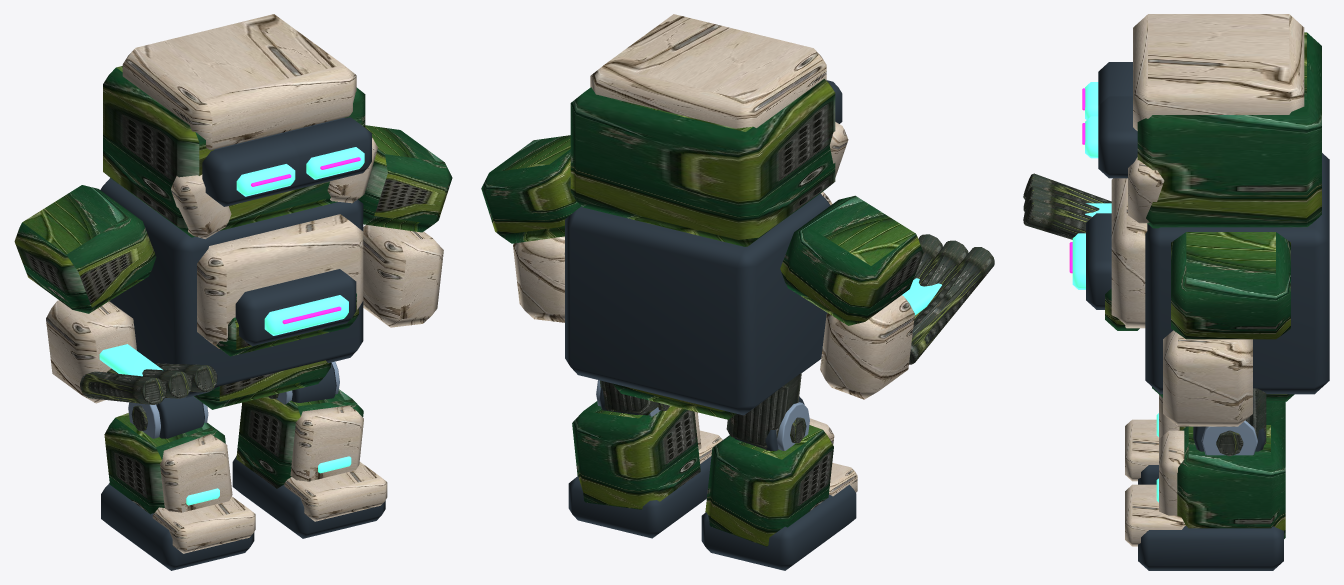
File: rootrunner.glb
3 renders of one model, left to right at view 1: azimuth 30°, elevation 25°; view 2: azimuth 150°, elevation 25°; view 3: azimuth 270°, elevation 25°, orthographic.
Visible parts, largest first — view 1: Ceramic, Cobalt, Graphite, Ceramic.002, Ceramic.001, Graphite.001, Jade power rail, Cobalt.002, Cobalt.001, Graphite.002, Brushed steel, Machined edges.001 (+1 smaller); view 2: Cobalt, Graphite, Ceramic, Cobalt.002, Cobalt.001, Graphite.001, Brushed steel, Graphite.002, Brushed steel.001, Brushed steel.002, Ceramic.001, Machined edges.001 (+1 smaller); view 3: Cobalt, Ceramic, Graphite, Cobalt.002, Graphite.002, Ceramic.002, Brushed steel, Ceramic.001, Jade power rail, Brushed steel.002, Machined edges.002, Cobalt.001.
Boxes of the visible parts, x1,y1,x2,y2 form: Ceramic: [46, 14, 443, 403]; Cobalt: [14, 66, 452, 409]; Graphite: [100, 117, 371, 397]; Ceramic.002: [284, 405, 387, 521]; Ceramic.001: [152, 434, 255, 553]; Graphite.001: [101, 396, 254, 570]; Jade power rail: [99, 147, 364, 376]; Cobalt.002: [236, 389, 363, 488]; Cobalt.001: [104, 413, 225, 514]; Graphite.002: [232, 362, 385, 538]; Brushed steel: [80, 363, 217, 404]; Machined edges.001: [128, 402, 208, 438]; Cobalt: [481, 79, 923, 419]; Graphite: [565, 80, 842, 415]; Ceramic: [513, 14, 914, 399]; Cobalt.002: [572, 401, 700, 509]; Cobalt.001: [705, 425, 833, 546]; Graphite.001: [701, 396, 856, 570]; Brushed steel: [909, 234, 994, 364]; Graphite.002: [568, 387, 711, 538]; Brushed steel.001: [726, 372, 806, 448]; Brushed steel.002: [600, 380, 669, 415]; Ceramic.001: [809, 418, 857, 496]; Machined edges.001: [777, 402, 809, 450]; Cobalt: [1105, 32, 1321, 401]; Ceramic: [1111, 14, 1304, 426]; Graphite: [1086, 62, 1329, 394]; Cobalt.002: [1177, 425, 1285, 538]; Graphite.002: [1138, 426, 1283, 570]; Ceramic.002: [1125, 430, 1185, 546]; Brushed steel: [1023, 173, 1111, 239]; Ceramic.001: [1125, 395, 1179, 481]; Jade power rail: [1072, 82, 1111, 289]; Brushed steel.002: [1216, 388, 1266, 456]; Machined edges.002: [1201, 420, 1257, 455]; Cobalt.001: [1179, 401, 1285, 436].
Size of the model in its own units: 1.08 by 1.21 by 0.715.
Materials: 7 (3 with a texture image).
